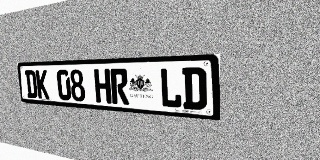0: (56, 69, 71, 101)
8: (69, 69, 86, 102)
D: (182, 67, 207, 110), (25, 70, 38, 98)
H: (94, 69, 112, 104)
K: (35, 70, 49, 99)
L: (159, 68, 182, 109)
R: (110, 68, 129, 105)
